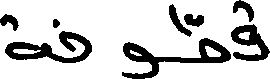ة: (0, 11, 45, 59)
ط: (166, 3, 230, 63)
ف: (51, 18, 91, 63)
ق: (230, 0, 268, 61)
و: (121, 39, 159, 77)
